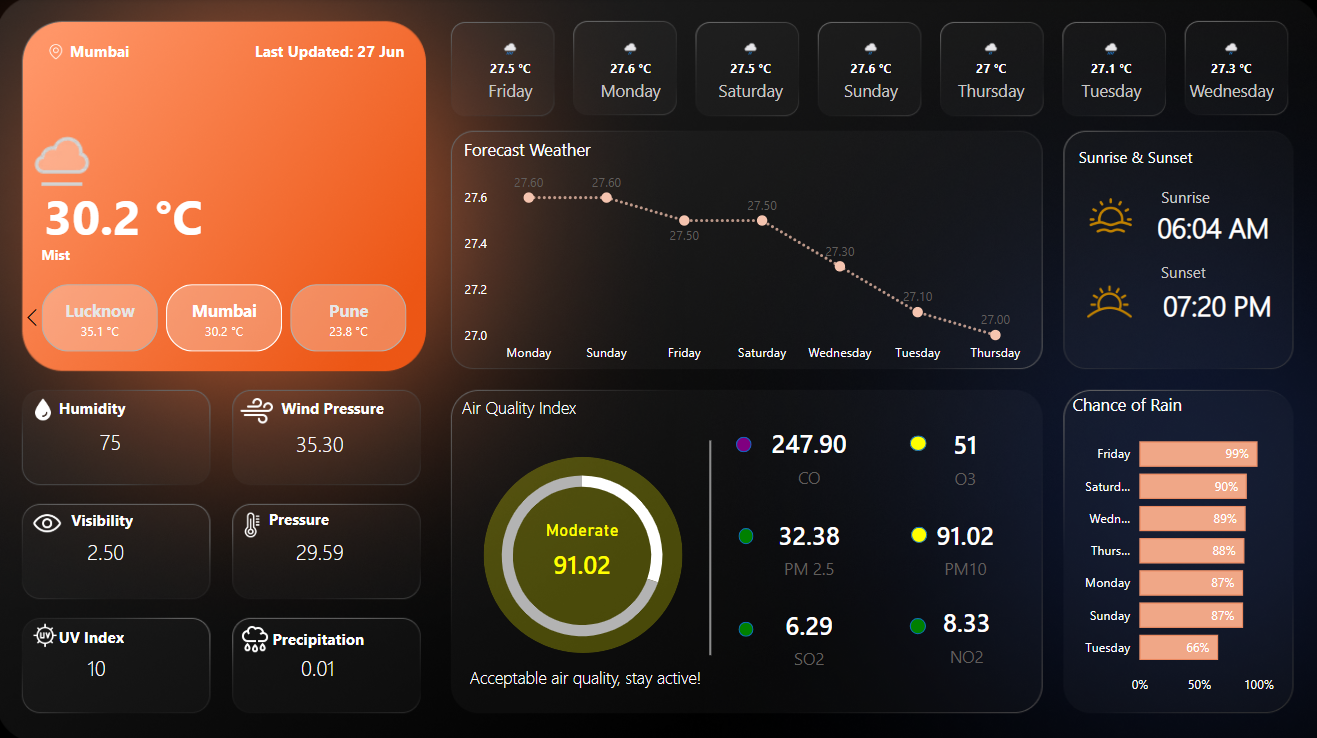

Layout of this report page (visuals, bound fields, positions):
{"tool":"powerbi","page":{"name":"Page 1","canvas":[1280,720],"ordinal":0},"visuals":[{"type":"shape","box":[470.4,443.1,192.2,189.5],"z":0},{"type":"advancedSlicerVisual","fields":{"Values":["Locations.location.name"]},"box":[19.2,271.7,403.4,75.5],"z":1000},{"type":"shape","box":[41,171.3,219.6,77.2],"z":2000},{"type":"shape","box":[41,229.2,219.6,37.4],"z":3000},{"type":"shape","box":[68.8,32.6,109.8,36.2],"z":4000},{"type":"shape","box":[247.3,32.6,219.6,36.2],"z":5000},{"type":"image","box":[29,39.8,57.9,24.1],"z":6000},{"type":"cardVisual","fields":{"Data":["Min(Current.current.condition.icon)"]},"box":[0,80.4,118.6,139.1],"z":7000},{"type":"image","box":[29,485,41,44.6],"z":8000},{"type":"image","box":[230.4,491,33.8,35],"z":9000},{"type":"image","box":[29,598.4,36.2,33.8],"z":10000},{"type":"image","box":[25.3,381.2,39.8,32.6],"z":11000},{"type":"image","box":[228,598.4,44.6,41],"z":12000},{"type":"image","box":[230.4,374,42.2,49.5],"z":13000},{"type":"shape","box":[57.9,377.6,219.6,36.2],"z":14000},{"type":"shape","box":[272.7,377.6,219.6,36.2],"z":15000},{"type":"shape","box":[70,486.2,85.7,35],"z":16000},{"type":"shape","box":[264.2,600.8,219.6,36.2],"z":17000},{"type":"shape","box":[57.9,598.4,219.6,36.2],"z":18000},{"type":"shape","box":[260.6,485,219.6,36.2],"z":19000},{"type":"cardVisual","fields":{"Data":["Sum(Current.current.humidity)"]},"box":[82.7,374.7,105.4,96],"z":20000},{"type":"cardVisual","fields":{"Data":["Sum(Current.current.wind_kph)"]},"box":[272.1,377.4,126.7,96],"z":21000},{"type":"cardVisual","fields":{"Data":["Sum(Current.current.vis_km)"]},"box":[70.7,496.1,101.4,66.7],"z":22000},{"type":"cardVisual","fields":{"Data":["Sum(Current.current.pressure_in)"]},"box":[272.1,489.4,126.7,80],"z":23000},{"type":"cardVisual","fields":{"Data":["Sum(Current.current.uv)"]},"box":[70.7,601.5,126.7,80],"z":24000},{"type":"cardVisual","fields":{"Data":["Sum(Current.current.precip_in)"]},"box":[277.4,601.5,126.7,80],"z":25000},{"type":"advancedSlicerVisual","fields":{"Values":["Forecast_Day.Day_Name"]},"box":[417.4,32.6,857.8,85.7],"z":26000},{"type":"lineChart","title":"Forecast Weather","fields":{"Y":["Avg(Forecast_Day.forecast.forecastday.day.avgtemp_c)"],"Category":["Forecast_Day.Day_Name"]},"box":[446.8,134.7,553.5,225.4],"z":27000},{"type":"shape","box":[1117.2,193,130.3,54.3],"z":28000},{"type":"shape","box":[1042.4,135.1,219.6,36.2],"z":29000},{"type":"shape","box":[1122,264.2,126.7,62.7],"z":30000},{"type":"shape","box":[1122,247.3,56.7,33.8],"z":31000},{"type":"shape","box":[1122,173.7,60.3,36.2],"z":32000},{"type":"image","box":[1031.5,259.4,86.9,67.6],"z":33000},{"type":"image","box":[1033.9,184.6,83.2,50.7],"z":34000},{"type":"clusteredBarChart","title":"Chance of Rain","fields":{"Category":["Forecast_Day.Day_Name"],"Y":["Avg(Forecast_Day.forecast.forecastday.day.daily_chance_of_rain)"]},"box":[1033.5,381.8,229.1,300],"z":35000},{"type":"card","fields":{"Values":["Sum(Current.current.air_quality.o3)"]},"box":[846.7,388.6,177.2,109.1],"z":36000},{"type":"card","fields":{"Values":["Sum(Current.current.air_quality.co)"]},"box":[695.8,388.6,177.7,107.9],"z":37000},{"type":"card","fields":{"Values":["Sum(Current.current.air_quality.pm2_5)"]},"box":[695.8,476.6,177.7,107.9],"z":38000},{"type":"card","fields":{"Values":["Sum(Current.current.air_quality.pm10)"]},"box":[846.9,476.6,177.7,107.9],"z":39000},{"type":"card","fields":{"Values":["Sum(Current.current.air_quality.no2)"]},"box":[848.6,561.3,177.7,107.9],"z":40000},{"type":"card","fields":{"Values":["Sum(Current.current.air_quality.so2)"]},"box":[695.8,562.9,177.7,107.9],"z":41000},{"type":"shape","box":[446.7,375.3,192.6,39.9],"z":42000},{"type":"shape","box":[714.1,423.5,15,15],"z":43000},{"type":"shape","box":[883.1,510.3,15.7,15.7],"z":44000},{"type":"shape","box":[882.2,422.7,16.4,15],"z":45000},{"type":"shape","box":[716.6,602,14.5,14.5],"z":46000},{"type":"shape","box":[716.6,511.5,14.5,15.7],"z":47000},{"type":"shape","box":[881.9,598.4,15.7,15.7],"z":48000},{"type":"shape","box":[643.5,426.8,92.7,207.2],"z":49000},{"type":"donutChart","fields":{"Y":["Sum(Current.current.air_quality.pm10)","_Measures.Left Value PM10"]},"box":[437.9,436.7,255.8,203.9],"z":50000},{"type":"card","fields":{"Values":["Sum(Current.current.air_quality.pm10)"]},"box":[492.2,503.1,147.3,76.4],"z":51000},{"type":"shape","box":[443.1,635.4,252.2,39.5],"z":51001}]}

Visuals, with their boxes in screenshot pixels (x1, y1, x2, y2), scaled from the page's 1280x720 canvas onto the 1317x738 screenshot:
shape: x1=484, y1=454, x2=682, y2=648
advancedSlicerVisual - Locations.location.name: x1=20, y1=278, x2=435, y2=356
shape: x1=42, y1=176, x2=268, y2=255
shape: x1=42, y1=235, x2=268, y2=273
shape: x1=71, y1=33, x2=184, y2=71
shape: x1=254, y1=33, x2=480, y2=71
image: x1=30, y1=41, x2=89, y2=65
cardVisual - Min(Current.current.condition.icon): x1=0, y1=82, x2=122, y2=225
image: x1=30, y1=497, x2=72, y2=543
image: x1=237, y1=503, x2=272, y2=539
image: x1=30, y1=613, x2=67, y2=648
image: x1=26, y1=391, x2=67, y2=424
image: x1=235, y1=613, x2=280, y2=655
image: x1=237, y1=383, x2=280, y2=434
shape: x1=60, y1=387, x2=286, y2=424
shape: x1=281, y1=387, x2=507, y2=424
shape: x1=72, y1=498, x2=160, y2=534
shape: x1=272, y1=616, x2=498, y2=653
shape: x1=60, y1=613, x2=286, y2=650
shape: x1=268, y1=497, x2=494, y2=534
cardVisual - Sum(Current.current.humidity): x1=85, y1=384, x2=194, y2=482
cardVisual - Sum(Current.current.wind_kph): x1=280, y1=387, x2=410, y2=485
cardVisual - Sum(Current.current.vis_km): x1=73, y1=509, x2=177, y2=577
cardVisual - Sum(Current.current.pressure_in): x1=280, y1=502, x2=410, y2=584
cardVisual - Sum(Current.current.uv): x1=73, y1=617, x2=203, y2=699
cardVisual - Sum(Current.current.precip_in): x1=285, y1=617, x2=416, y2=699
advancedSlicerVisual - Forecast_Day.Day_Name: x1=429, y1=33, x2=1312, y2=121
"Forecast Weather" lineChart: x1=460, y1=138, x2=1029, y2=369
shape: x1=1149, y1=198, x2=1284, y2=253
shape: x1=1073, y1=138, x2=1298, y2=176
shape: x1=1154, y1=271, x2=1285, y2=335
shape: x1=1154, y1=253, x2=1213, y2=288
shape: x1=1154, y1=178, x2=1216, y2=215
image: x1=1061, y1=266, x2=1151, y2=335
image: x1=1064, y1=189, x2=1149, y2=241
"Chance of Rain" clusteredBarChart: x1=1063, y1=391, x2=1299, y2=699
card - Sum(Current.current.air_quality.o3): x1=871, y1=398, x2=1053, y2=510
card - Sum(Current.current.air_quality.co): x1=716, y1=398, x2=899, y2=509
card - Sum(Current.current.air_quality.pm2_5): x1=716, y1=489, x2=899, y2=599
card - Sum(Current.current.air_quality.pm10): x1=871, y1=489, x2=1054, y2=599
card - Sum(Current.current.air_quality.no2): x1=873, y1=575, x2=1056, y2=686
card - Sum(Current.current.air_quality.so2): x1=716, y1=577, x2=899, y2=688
shape: x1=460, y1=385, x2=658, y2=426
shape: x1=735, y1=434, x2=750, y2=449
shape: x1=909, y1=523, x2=925, y2=539
shape: x1=908, y1=433, x2=925, y2=449
shape: x1=737, y1=617, x2=752, y2=632
shape: x1=737, y1=524, x2=752, y2=540
shape: x1=907, y1=613, x2=924, y2=629
shape: x1=662, y1=437, x2=757, y2=650
donutChart - Sum(Current.current.air_quality.pm10) x _Measures.Left Value PM10: x1=451, y1=448, x2=714, y2=657
card - Sum(Current.current.air_quality.pm10): x1=506, y1=516, x2=658, y2=594
shape: x1=456, y1=651, x2=715, y2=692
